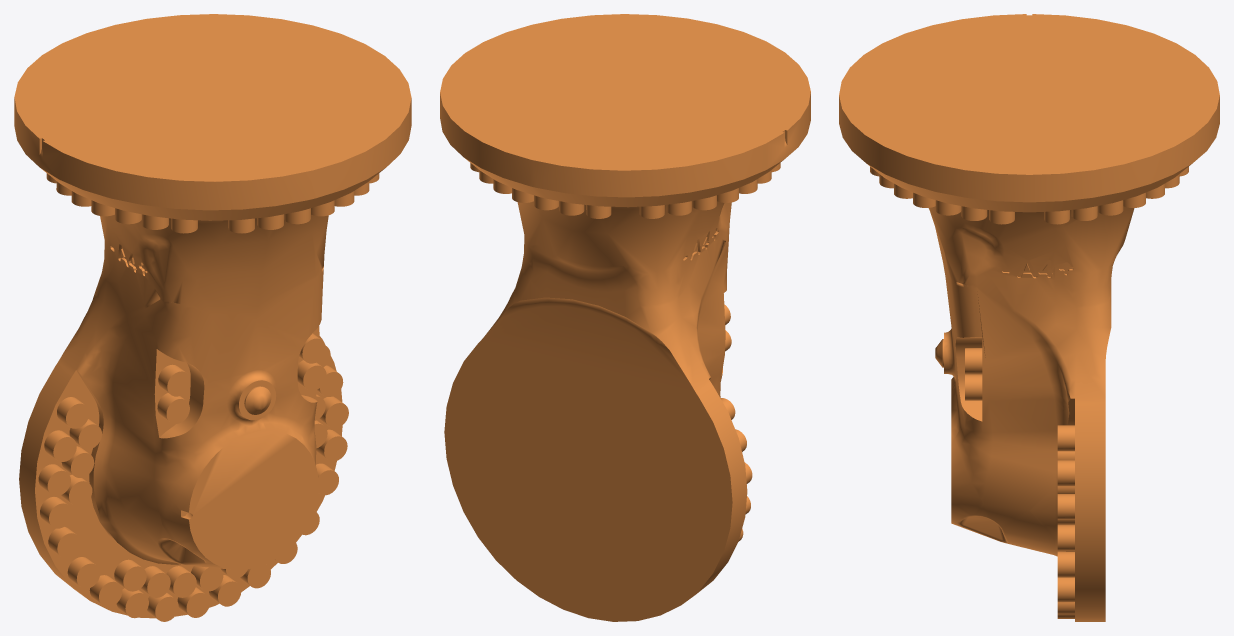
The picture shows the model from 3 angles, left to right: view 1: azimuth 30°, elevation 25°; view 2: azimuth 150°, elevation 25°; view 3: azimuth 270°, elevation 25°; orthographic projection. The views are drawn at different scales.
Visible parts, largest first — view 1: link_4; view 2: link_4; view 3: link_4.
Part boxes in pixels (x1,y1,x2,y2): link_4: (14,14,411,621); link_4: (440,14,810,621); link_4: (839,14,1219,621).
Bounding box in the file's own units: 0.263 × 0.263 × 0.3902.
